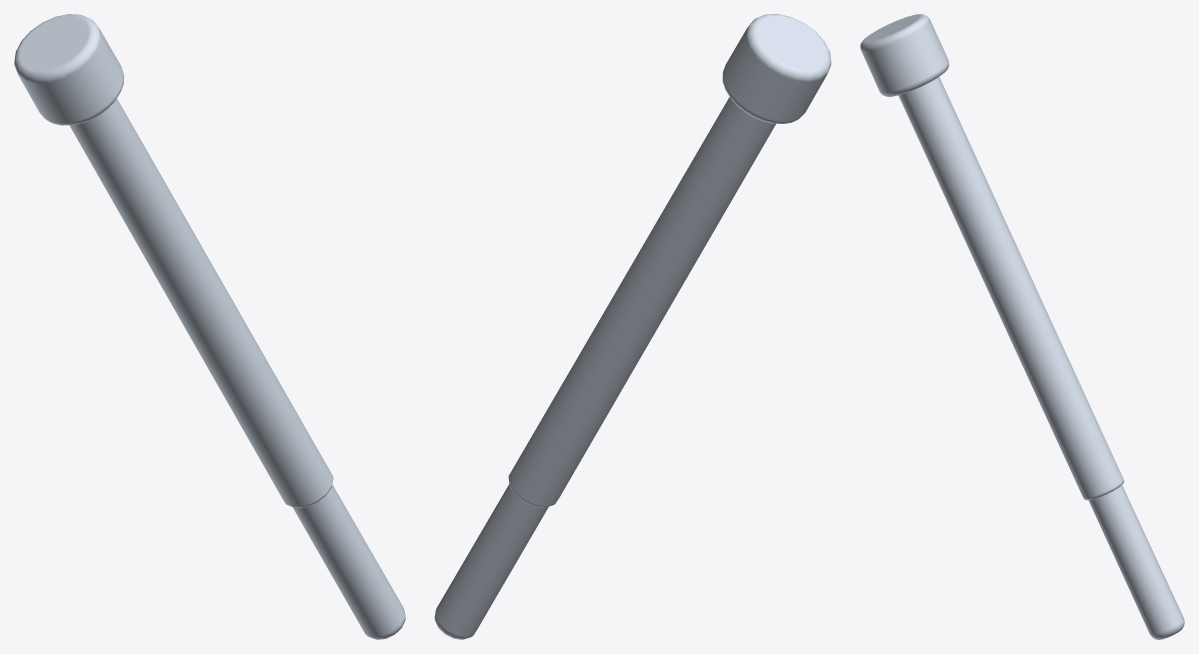
File: RB-036_viewer.glb
The picture shows the model from 3 angles, left to right: view 1: azimuth 30°, elevation 25°; view 2: azimuth 150°, elevation 25°; view 3: azimuth 330°, elevation 25°; orthographic projection. The views are drawn at different scales.
Visible parts, largest first — view 1: basebody_imported1; view 2: basebody_imported1; view 3: basebody_imported1.
Boxes of the visible parts, left/top/right/bottom form: basebody_imported1: left=14, top=14, right=405, bottom=639; basebody_imported1: left=434, top=14, right=831, bottom=639; basebody_imported1: left=860, top=14, right=1184, bottom=639.
Size of the model in its own units: 0.0237 by 0.0407 by 0.00501.
